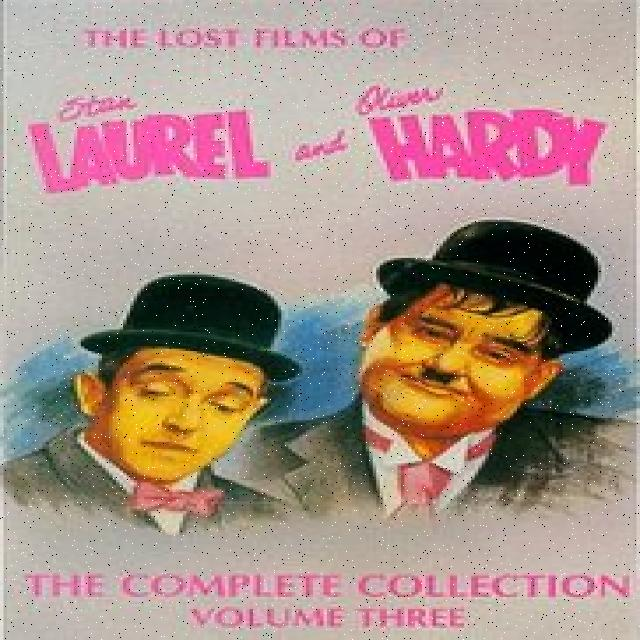movie-judul: (23, 20, 612, 199), (9, 560, 640, 634)
picture: (9, 220, 640, 544)
